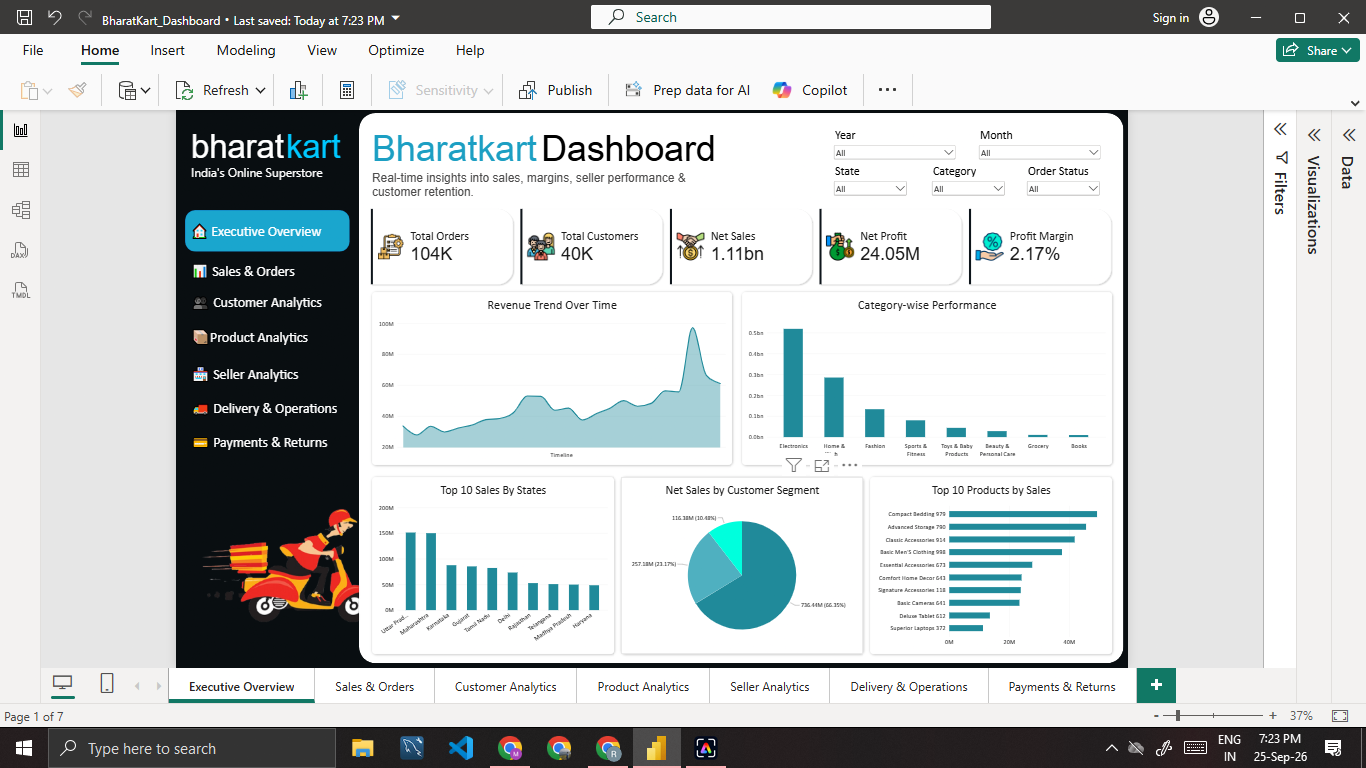

Layout of this report page (visuals, bound fields, positions):
{"tool":"powerbi","page":{"name":"Executive Overview","canvas":[2560,1500],"ordinal":0},"visuals":[{"type":"shape","box":[493.1,8.9,2055.1,1479.3],"z":0},{"type":"textbox","box":[41.3,47.2,286.4,103.3],"z":1000},{"type":"textbox","box":[295.3,47.2,171.3,103.3],"z":2000},{"type":"textbox","box":[41.3,144.7,386.8,53.1],"z":3000},{"type":"shape","box":[23.6,268.7,442.9,112.2],"z":4000},{"type":"textbox","box":[40.3,298.4,365.6,51.1],"z":5000},{"type":"textbox","box":[40.3,405.9,366.1,65],"z":6000},{"type":"textbox","box":[40.3,682.8,366.1,65],"z":7000},{"type":"textbox","box":[40.3,489.2,366.1,65],"z":8000},{"type":"textbox","box":[40.3,583.3,366.1,65],"z":9000},{"type":"textbox","box":[40.3,774.2,425.2,65],"z":10000},{"type":"textbox","box":[40.3,865.6,425.2,65],"z":11000},{"type":"image","box":[0,986.2,564,475.4],"z":12000},{"type":"textbox","box":[981.2,34.9,489.2,129],"z":13000},{"type":"textbox","box":[526.9,34.9,454.3,129],"z":14000},{"type":"textbox","box":[526.9,164,865.6,80.6],"z":15000},{"type":"slicer","fields":{"Values":["Calendar.Year"]},"box":[1762.8,47.2,336.6,118.1],"z":16000},{"type":"slicer","fields":{"Values":["customers.state"]},"box":[1762.8,144.7,206.5,118.4],"z":17000},{"type":"slicer","fields":{"Values":["Calendar.Month"]},"box":[2152.6,47.2,336.6,118.1],"z":18000},{"type":"slicer","fields":{"Values":["products.category"]},"box":[2025.6,144.7,206.5,118.4],"z":19000},{"type":"slicer","fields":{"Values":["orders.order_status"]},"box":[2282.3,145.2,206.5,118.4],"z":20000},{"type":"cardVisual","fields":{"Data":["DAX.Total Orders","DAX.Total Customers","DAX.Net Sales","DAX.Net Profit","DAX.Profit Margin"]},"box":[502,245.1,2034.4,245.1],"z":21000},{"type":"lineChart","title":"Revenue Trend Over Time","fields":{"Category":["Calendar.Year","Calendar.Month"],"Y":["DAX.Net Sales"]},"box":[526.9,489.2,967.7,465.1],"z":22000},{"type":"clusteredColumnChart","title":"Category-wise Performance","fields":{"Category":["products.category"],"Y":["DAX.Net Sales"]},"box":[1521.5,489.2,994.6,465.1],"z":23000},{"type":"barChart","title":"Top 10 Products by Sales","fields":{"Category":["products.product_name"],"Y":["DAX.Net Sales"]},"box":[1865.6,986.6,650.5,475.8],"z":24000},{"type":"pieChart","title":"Net Sales by Customer Segment","fields":{"Category":["orders.customer_segment"],"Y":["DAX.Net Sales"]},"box":[1196.2,986.6,650.5,475.8],"z":25000},{"type":"columnChart","title":"Top 10 Sales By States","fields":{"Category":["customers.state"],"Y":["DAX.Net Sales"]},"box":[526.9,986.6,650.5,475.8],"z":26000}]}

Visuals, with their boxes on the page's 2560x1500 design canvas (x1, y1, x2, y2). These are canvas units, not pixel positions in the 1366x768 screenshot, which may show the page scaled, cropped or inside an application window:
shape: [493, 9, 2548, 1488]
textbox: [41, 47, 328, 150]
textbox: [295, 47, 467, 150]
textbox: [41, 145, 428, 198]
shape: [24, 269, 466, 381]
textbox: [40, 298, 406, 350]
textbox: [40, 406, 406, 471]
textbox: [40, 683, 406, 748]
textbox: [40, 489, 406, 554]
textbox: [40, 583, 406, 648]
textbox: [40, 774, 466, 839]
textbox: [40, 866, 466, 931]
image: [0, 986, 564, 1462]
textbox: [981, 35, 1470, 164]
textbox: [527, 35, 981, 164]
textbox: [527, 164, 1392, 245]
slicer - Calendar.Year: [1763, 47, 2099, 165]
slicer - customers.state: [1763, 145, 1969, 263]
slicer - Calendar.Month: [2153, 47, 2489, 165]
slicer - products.category: [2026, 145, 2232, 263]
slicer - orders.order_status: [2282, 145, 2489, 264]
cardVisual - DAX.Total Orders x DAX.Total Customers: [502, 245, 2536, 490]
"Revenue Trend Over Time" lineChart: [527, 489, 1495, 954]
"Category-wise Performance" clusteredColumnChart: [1522, 489, 2516, 954]
"Top 10 Products by Sales" barChart: [1866, 987, 2516, 1462]
"Net Sales by Customer Segment" pieChart: [1196, 987, 1847, 1462]
"Top 10 Sales By States" columnChart: [527, 987, 1177, 1462]
